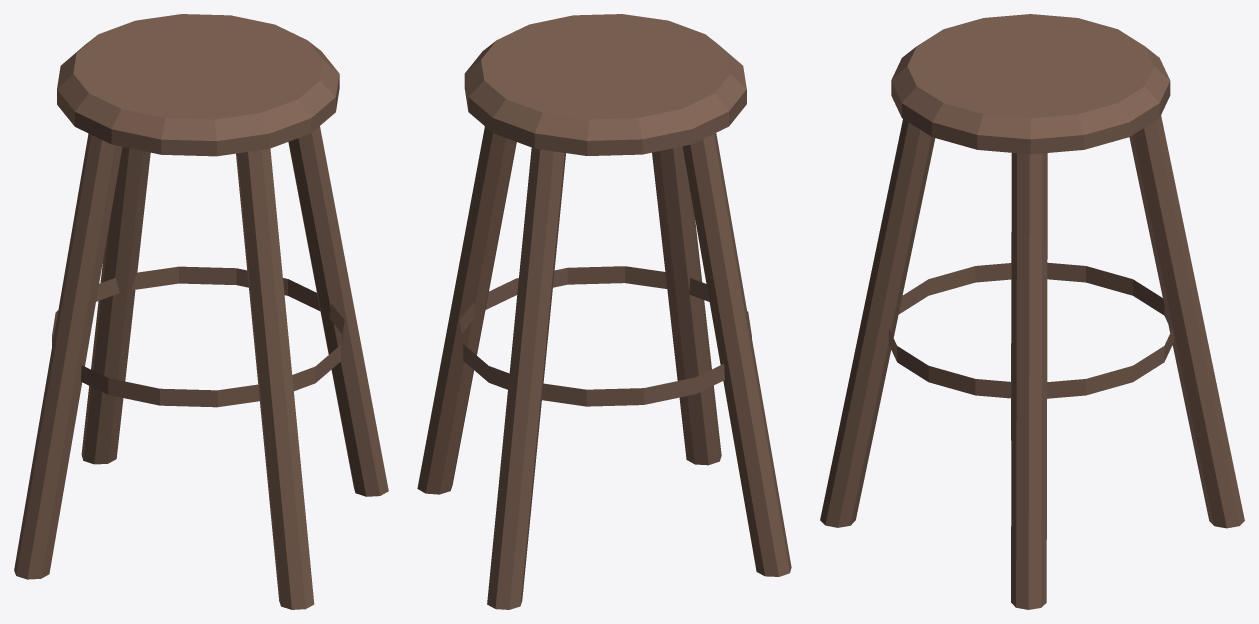
File: stool.fbx
The picture shows the model from 3 angles, left to right: view 1: azimuth 30°, elevation 25°; view 2: azimuth 150°, elevation 25°; view 3: azimuth 270°, elevation 25°; orthographic projection. The views are drawn at different scales.
Visible parts, largest first — view 1: Cylinder.001; view 2: Cylinder.001; view 3: Cylinder.001.
Boxes of the visible parts, box(x1,y1,x2,y2) form: Cylinder.001: box(14, 14, 388, 609); Cylinder.001: box(417, 14, 791, 609); Cylinder.001: box(820, 14, 1244, 609).
Size of the model in its own units: 301 by 359 by 304.
